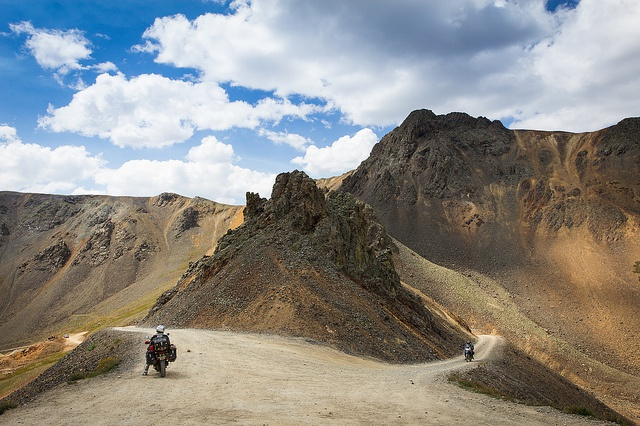non-vehicle: (144, 332, 177, 377), (460, 345, 473, 362)
